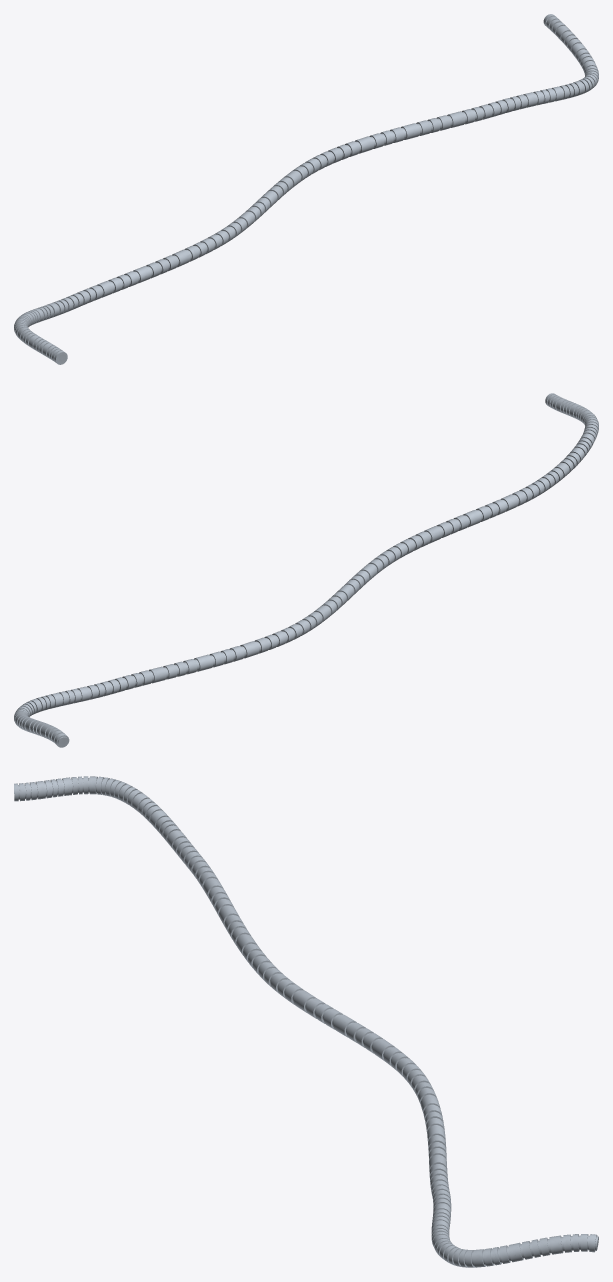
The model's file is SM_Cable_1_Splines_4.fbx.
The picture shows the model from 3 angles, top to bottom: view 1: azimuth 30°, elevation 25°; view 2: azimuth 210°, elevation 25°; view 3: azimuth 270°, elevation 25°; orthographic projection. The views are drawn at different scales.
Visible parts, largest first — view 1: SM_Cable_1_Splines_4; view 2: SM_Cable_1_Splines_4; view 3: SM_Cable_1_Splines_4.
Boxes of the visible parts, bbox=[...] form: SM_Cable_1_Splines_4: bbox=[14, 14, 598, 364]; SM_Cable_1_Splines_4: bbox=[14, 393, 598, 747]; SM_Cable_1_Splines_4: bbox=[14, 776, 598, 1267].
Bounding box in the file's own units: 472 × 254 × 20.78.
